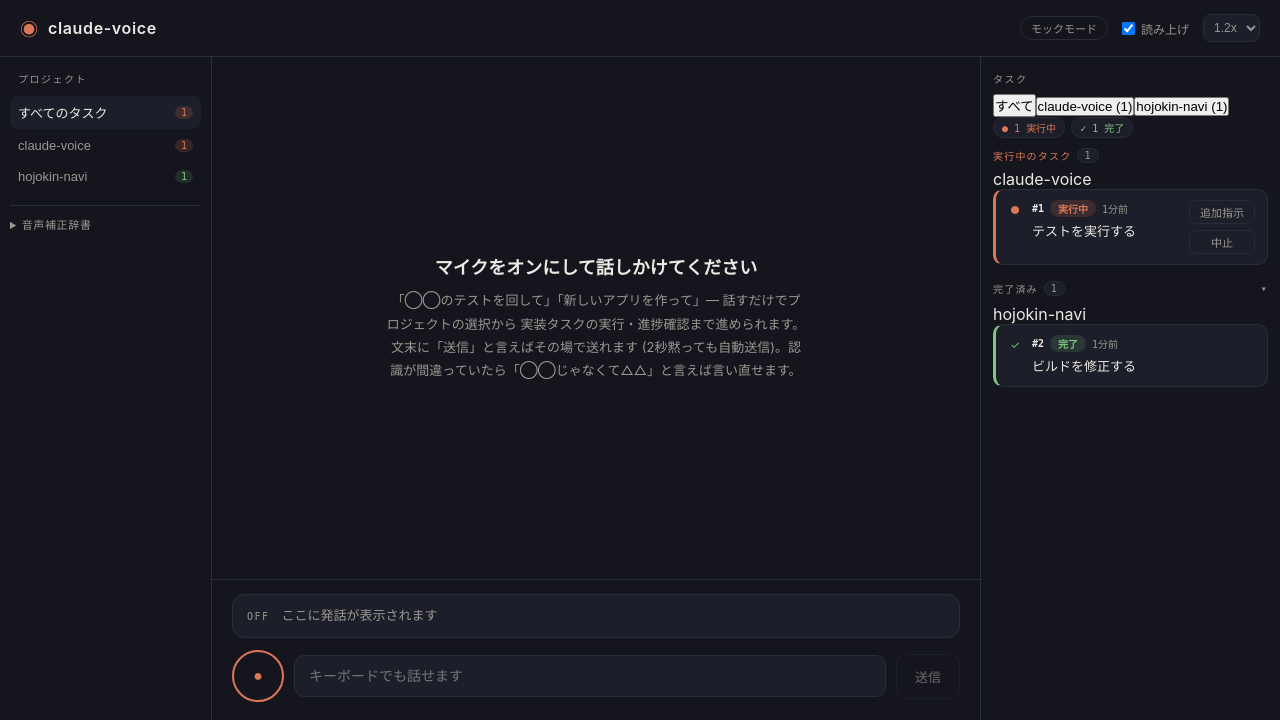
Test: App › filters tasks by project from the sidebar and switches the workspace
expect the text "テストを実行する" is shown: met, box [1032, 221, 1136, 241]
expect the text "ビルドを修正する" is shown: met, box [1032, 356, 1136, 376]
Click the button "hojokin-navi 1" at (106, 176), box [10, 162, 201, 191]
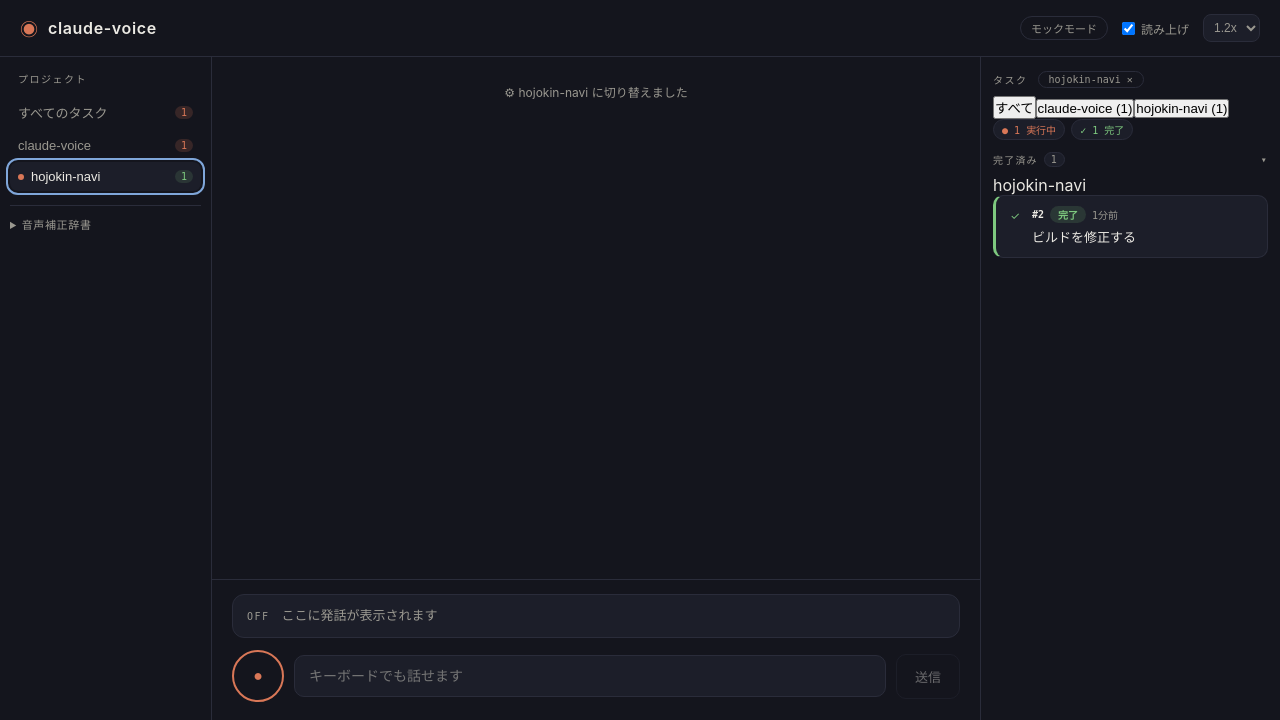
expect the text "ビルドを修正する" is shown: met, box [1032, 227, 1136, 247]
expect the button "テストを実行する" is gone: met
Note: 絞り込み解除チップで全件表示に戻る
Click the button with aria-label "hojokin-navi の絞り込みを解除" at (1091, 80), box [1038, 71, 1144, 88]
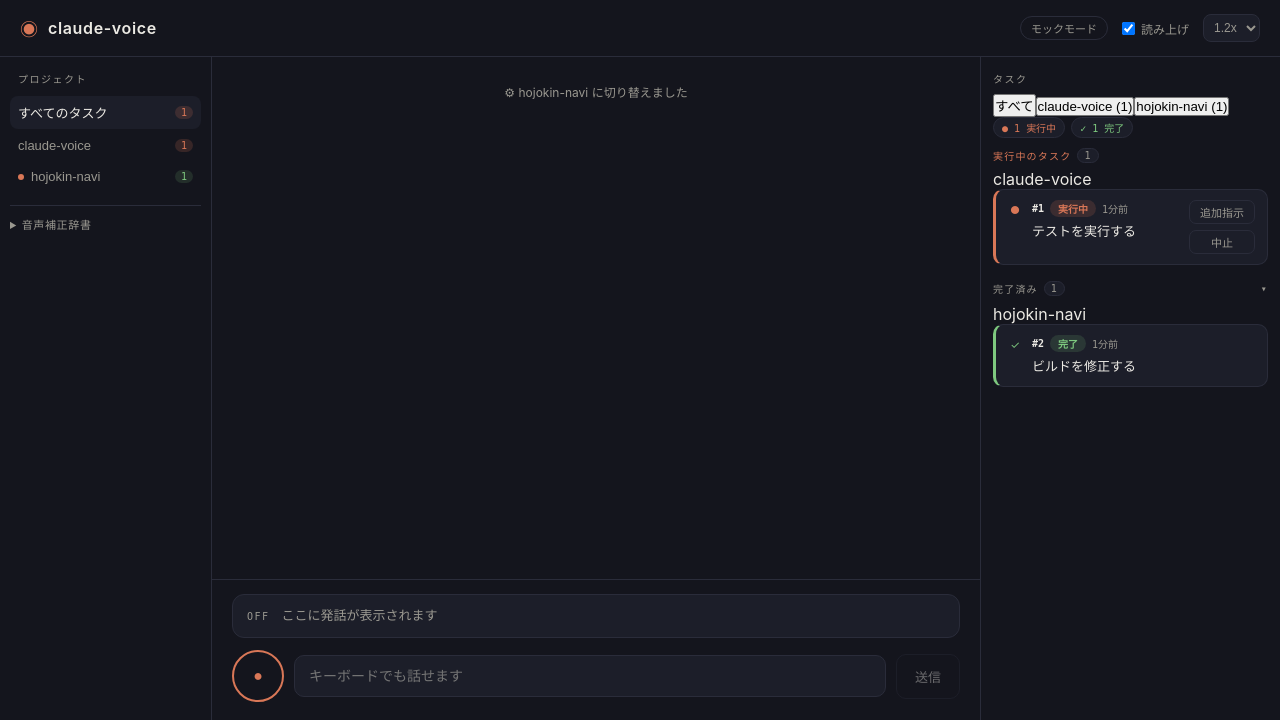
expect the text "テストを実行する" is shown: met, box [1032, 221, 1136, 241]
